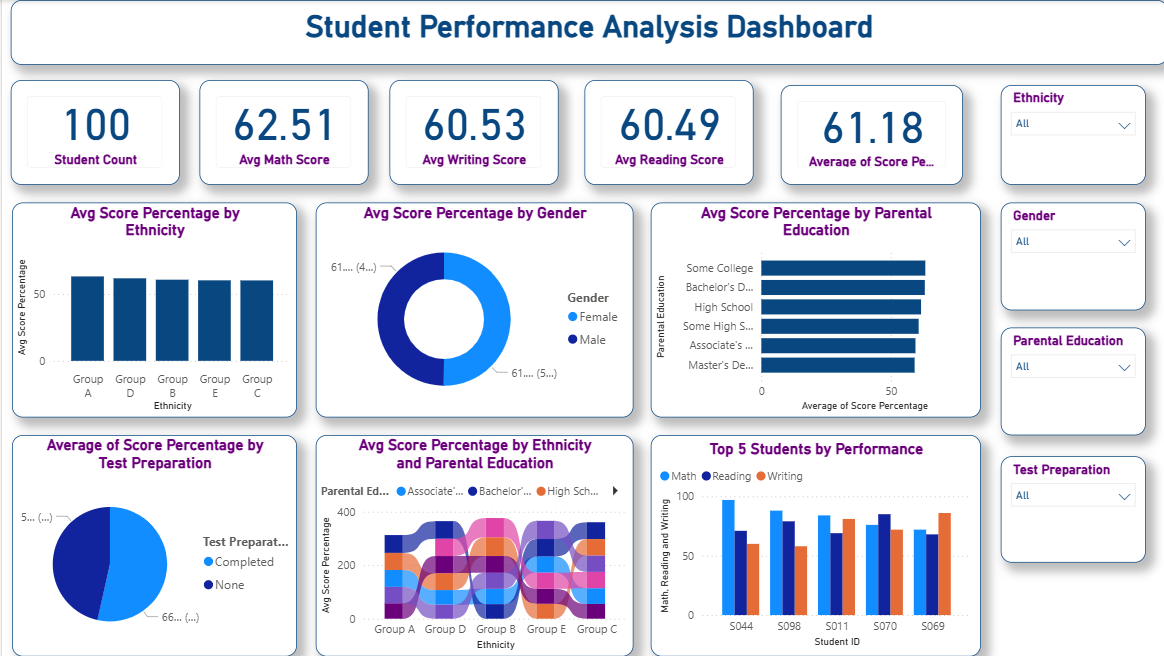

The page's visual inventory and layout, read from the dashboard file:
{"tool":"powerbi","page":{"name":"All Subject Dashboard","canvas":[1280,720],"ordinal":0},"visuals":[{"type":"textbox","box":[9.6,0,1270.7,71.4],"z":0},{"type":"cardVisual","fields":{"Data":["Count(marks.Student ID)"]},"box":[9.6,87.8,185.2,115.3],"z":1000},{"type":"cardVisual","fields":{"Data":["Avg(marks.Math Score)"]},"box":[216.8,87.8,185.2,115.3],"z":2000},{"type":"cardVisual","fields":{"Data":["Avg(marks.Writing Score)"]},"box":[425.4,87.8,185.2,115.3],"z":3000},{"type":"cardVisual","fields":{"Data":["Avg(marks.Reading Score)"]},"box":[639.5,87.8,185.2,115.3],"z":4000},{"type":"cardVisual","fields":{"Data":["Avg(marks.Score Percentage)"]},"box":[854.9,93.3,200.3,109.8],"z":5000},{"type":"slicer","fields":{"Values":["marks.Ethnicity"]},"box":[1096.4,93.3,159.2,109.8],"z":6000},{"type":"slicer","fields":{"Values":["marks.Gender"]},"box":[1096.4,222.3,159.2,118],"z":7000},{"type":"slicer","fields":{"Values":["marks.Parental Education"]},"box":[1096.4,359.5,159.2,118],"z":8000},{"type":"columnChart","fields":{"Category":["marks.Ethnicity"],"Y":["Avg(marks.Score Percentage)"]},"box":[11,222.3,312.9,236],"z":9000},{"type":"donutChart","fields":{"Category":["marks.Gender"],"Y":["Avg(marks.Score Percentage)"]},"box":[344.4,222.3,348.5,236],"z":10000},{"type":"pieChart","fields":{"Category":["marks.Test Preparation"],"Y":["Avg(marks.Score Percentage)"]},"box":[11,477.5,312.9,242.9],"z":11000},{"type":"clusteredBarChart","fields":{"Category":["marks.Parental Education"],"Y":["Avg(marks.Score Percentage)"]},"box":[712.2,222.3,362.3,236],"z":12000},{"type":"ribbonChart","fields":{"Category":["marks.Ethnicity"],"Y":["Avg(marks.Score Percentage)"],"Series":["marks.Parental Education"]},"box":[344.4,477.5,348.5,242.9],"z":13000},{"type":"slicer","fields":{"Values":["marks.Test Preparation"]},"box":[1096.4,500.9,159.2,116.6],"z":14000},{"type":"clusteredColumnChart","title":"Top 5 Students by Performance","fields":{"Y":["Avg(marks.Math Score)","Avg(marks.Reading Score)","Avg(marks.Writing Score)"],"Category":["marks.Student ID"]},"box":[712.2,477.5,362.3,242.9],"z":15000}]}

Visuals, with their boxes in screenshot pixels (x1, y1, x2, y2), scaled from the page's 1280x720 canvas onto the 1164x656 screenshot:
textbox: locate(9, 0, 1163, 65)
cardVisual - Count(marks.Student ID): locate(9, 80, 177, 185)
cardVisual - Avg(marks.Math Score): locate(197, 80, 366, 185)
cardVisual - Avg(marks.Writing Score): locate(387, 80, 555, 185)
cardVisual - Avg(marks.Reading Score): locate(582, 80, 750, 185)
cardVisual - Avg(marks.Score Percentage): locate(777, 85, 960, 185)
slicer - marks.Ethnicity: locate(997, 85, 1142, 185)
slicer - marks.Gender: locate(997, 203, 1142, 310)
slicer - marks.Parental Education: locate(997, 328, 1142, 435)
columnChart - marks.Ethnicity x Avg(marks.Score Percentage): locate(10, 203, 295, 418)
donutChart - marks.Gender x Avg(marks.Score Percentage): locate(313, 203, 630, 418)
pieChart - marks.Test Preparation x Avg(marks.Score Percentage): locate(10, 435, 295, 655)
clusteredBarChart - marks.Parental Education x Avg(marks.Score Percentage): locate(648, 203, 977, 418)
ribbonChart - marks.Ethnicity x Avg(marks.Score Percentage): locate(313, 435, 630, 655)
slicer - marks.Test Preparation: locate(997, 456, 1142, 563)
"Top 5 Students by Performance" clusteredColumnChart: locate(648, 435, 977, 655)
